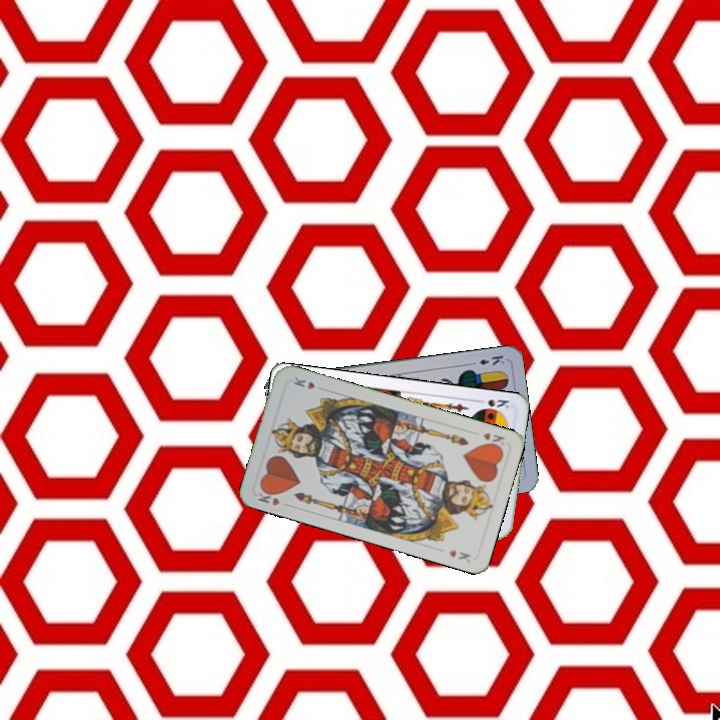EK: (466, 351, 507, 368)
HK: (479, 428, 508, 451), (253, 485, 282, 508)
SK: (472, 395, 513, 412)
